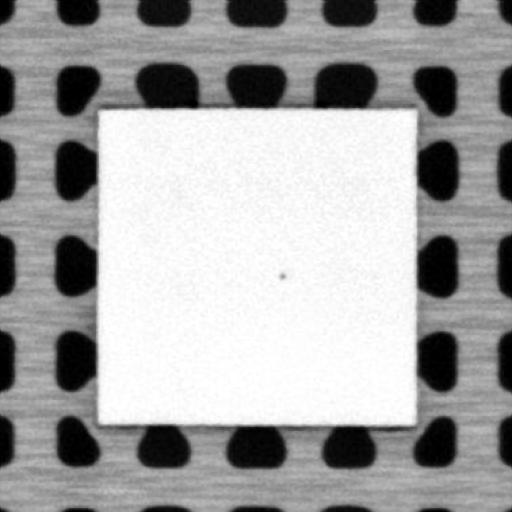DIE_INK: (275, 266, 287, 280)
